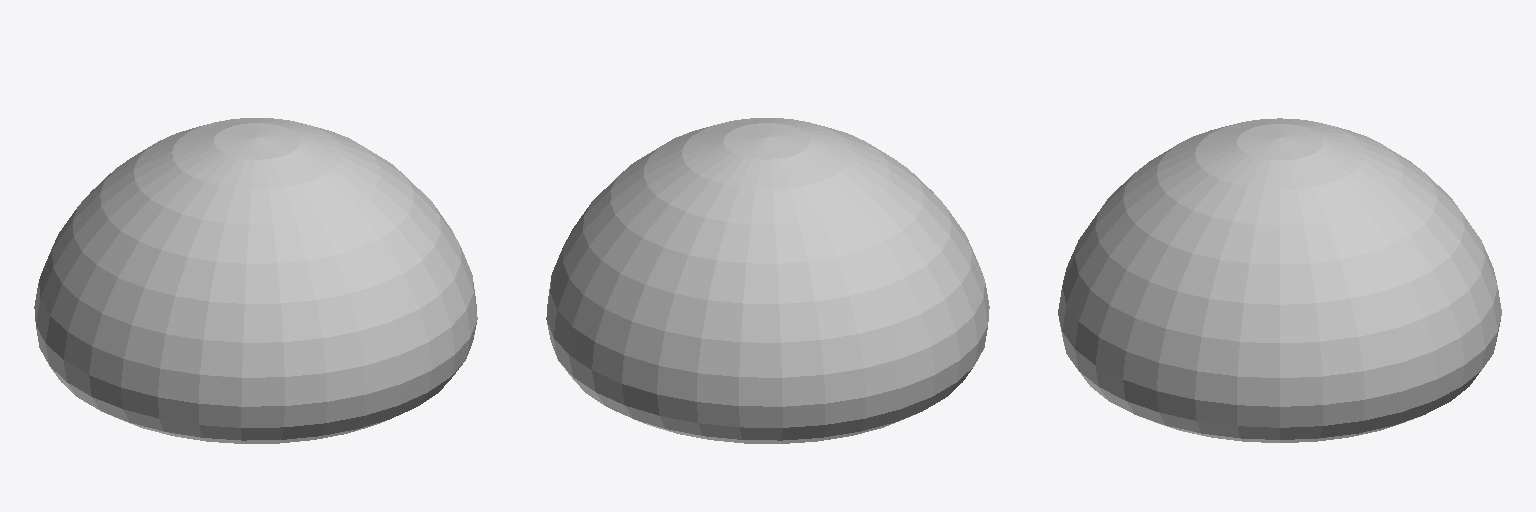
The model's file is player.obj.
3 views of the same model, side by side, from view 1: azimuth 30°, elevation 25°; view 2: azimuth 150°, elevation 25°; view 3: azimuth 270°, elevation 25° (orthographic).
Parts seen in each view (by area): view 1: 球; view 2: 球; view 3: 球.
Boxes of the visible parts, x1,y1,x2,y2 form: 球: [34, 118, 477, 443]; 球: [546, 118, 989, 443]; 球: [1058, 118, 1501, 442].
Bounding box in the file's own units: 3.4 × 2 × 3.4.